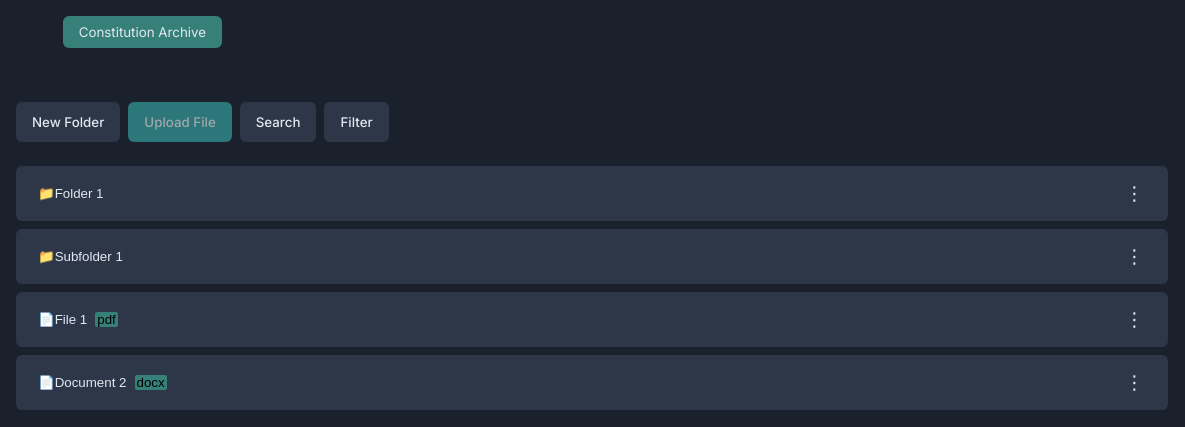
it: FolderBrowser Component › renders breadcrumb separator for multiple path items
The width and height of the screenshot is (1185, 427).
Click the button with aria-label "Open folder Folder 1" at {"x": 79, "y": 194}, box [32,185,1105,202]
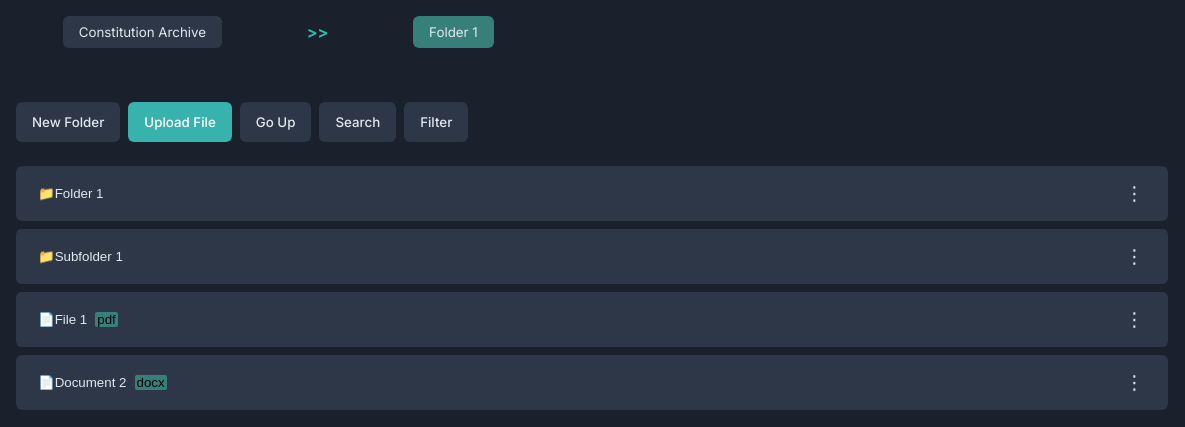
Now the text ">>" is shown, box [307,22,328,42]
